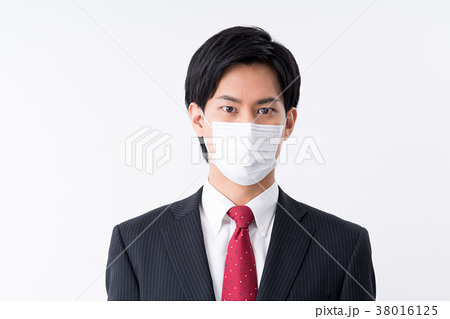mask: (210, 125, 286, 186)
